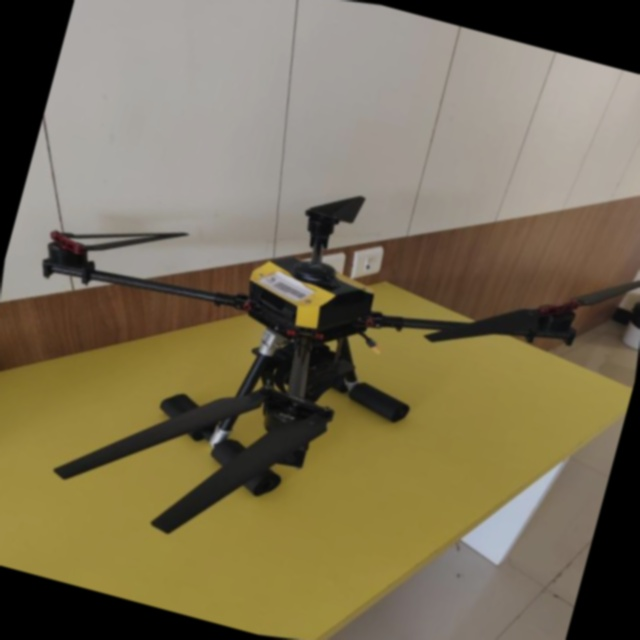quadcopter: (0, 69, 640, 640)
